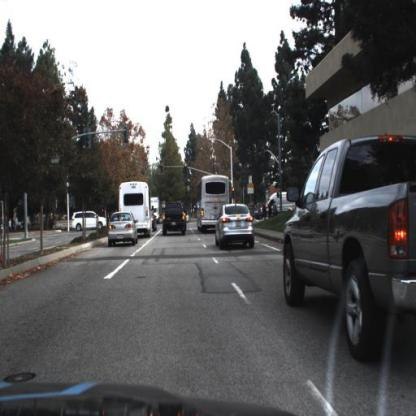car: (283, 134, 416, 361), (216, 203, 256, 247), (260, 189, 296, 223), (108, 211, 138, 245), (68, 208, 112, 231), (163, 200, 189, 238)
pedestrian: (267, 199, 274, 221), (273, 199, 279, 219), (262, 201, 267, 224)
trafficLight-Red: (183, 162, 189, 176), (232, 187, 237, 199)
truck: (197, 175, 232, 236), (118, 180, 152, 240)
